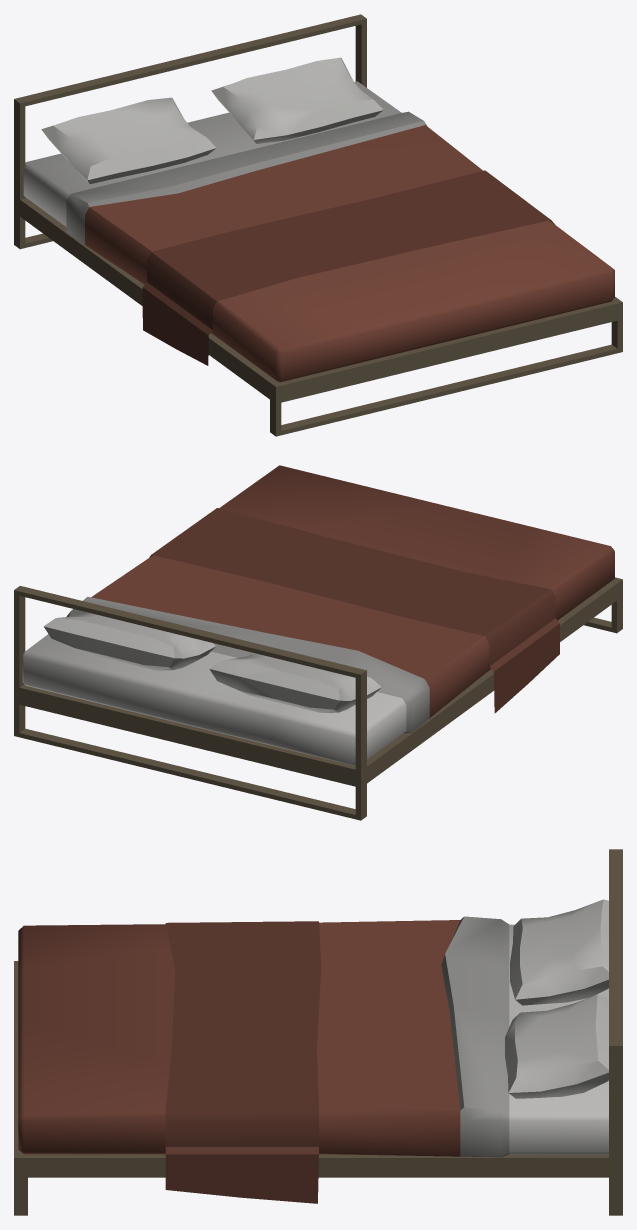
File: Bed_King.glb
The picture shows the model from 3 angles, top to bottom: view 1: azimuth 30°, elevation 25°; view 2: azimuth 150°, elevation 25°; view 3: azimuth 270°, elevation 25°; orthographic projection. The views are drawn at different scales.
Visible parts, largest first — view 1: Bed_King; view 2: Bed_King; view 3: Bed_King.
Part boxes in pixels (x1,y1,x2,y2): Bed_King: (14,14,622,436); Bed_King: (14,465,622,820); Bed_King: (14,849,622,1215).
Size of the model in its own units: 3.06 by 1.21 by 3.95.
